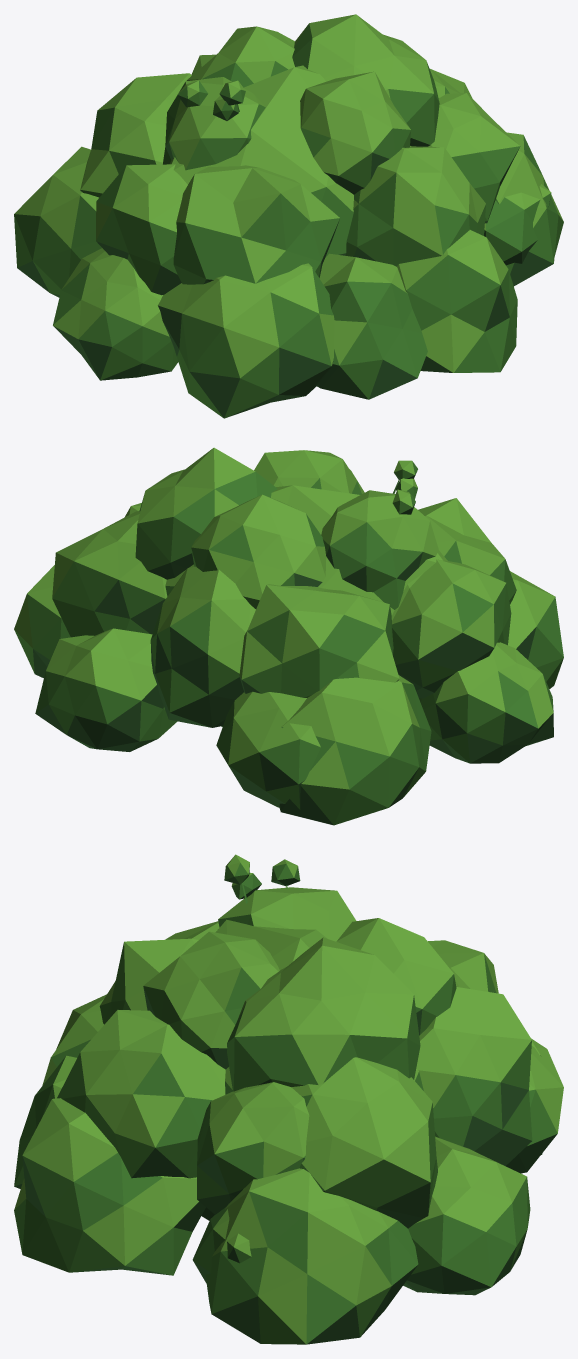
The model's file is F09_VineMound.glb.
The picture shows the model from 3 angles, top to bottom: view 1: azimuth 30°, elevation 25°; view 2: azimuth 150°, elevation 25°; view 3: azimuth 270°, elevation 25°; orthographic projection. The views are drawn at different scales.
Parts seen in each view (by area): view 1: F09_VineMound; view 2: F09_VineMound; view 3: F09_VineMound.
Part boxes in pixels (bbox=[...]): F09_VineMound: bbox=[14, 14, 563, 418]; F09_VineMound: bbox=[14, 447, 563, 825]; F09_VineMound: bbox=[14, 854, 563, 1344].
Size of the model in its own units: 5.23 by 2.56 by 4.2.
